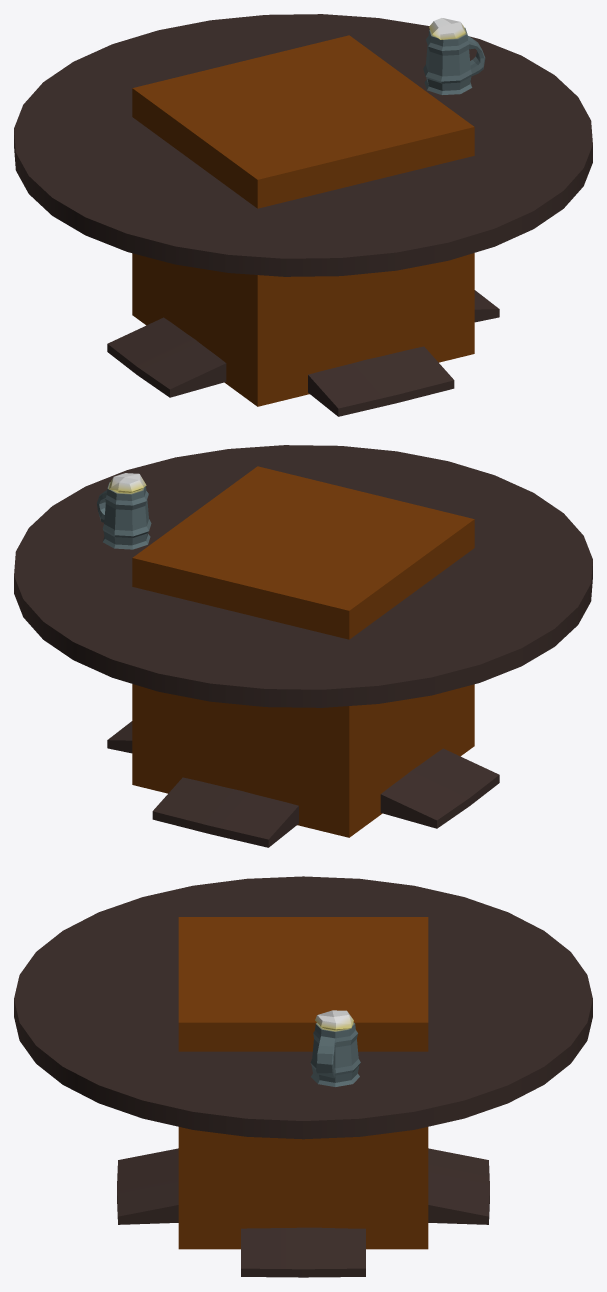
File: assets.glb
The picture shows the model from 3 angles, top to bottom: view 1: azimuth 30°, elevation 25°; view 2: azimuth 150°, elevation 25°; view 3: azimuth 270°, elevation 25°; orthographic projection.
Visible parts, largest first — view 1: Table, Cube, BeerTable; view 2: Table, Cube, BeerTable; view 3: Table, Cube, BeerTable.
Part boxes in pixels (x1,y1,x2,y2): Table: [14, 14, 592, 416]; Cube: [132, 35, 474, 406]; BeerTable: [423, 18, 485, 94]; Table: [14, 445, 592, 847]; Cube: [132, 466, 474, 837]; BeerTable: [97, 473, 151, 549]; Table: [14, 876, 592, 1277]; Cube: [178, 917, 428, 1249]; BeerTable: [310, 1010, 360, 1086].
Size of the model in its own units: 1.41 by 0.7068 by 1.41.
